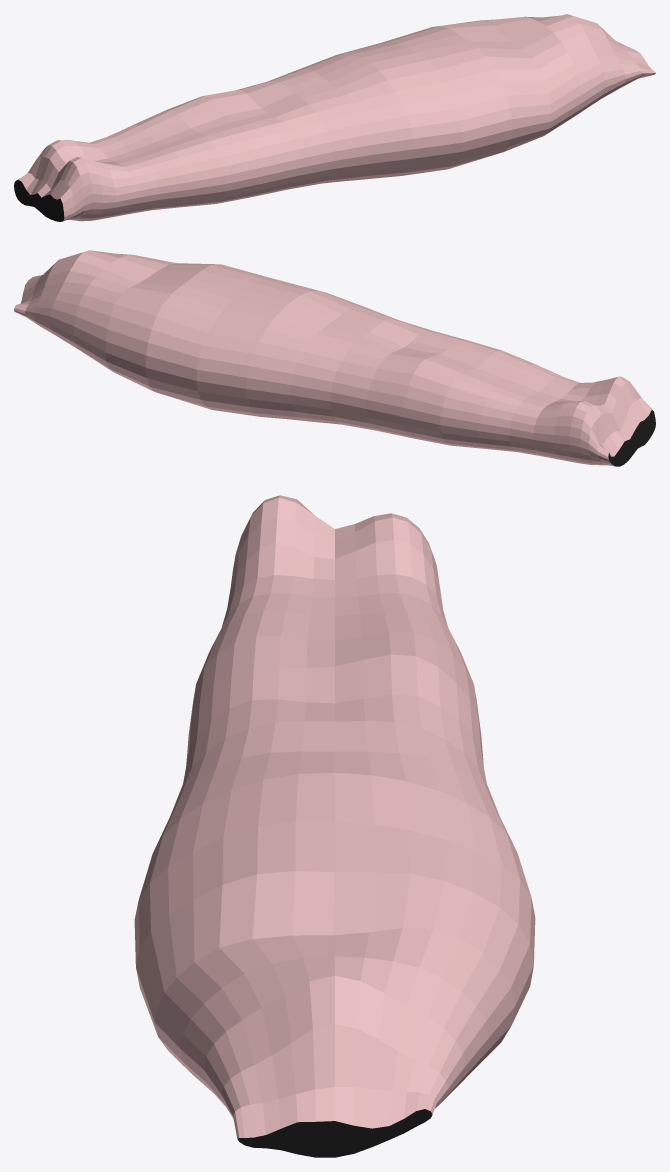
The model's file is pr_wrapped_corpse_mesh.fbx.
3 renders of one model, top to bottom at view 1: azimuth 30°, elevation 25°; view 2: azimuth 150°, elevation 25°; view 3: azimuth 270°, elevation 25°, orthographic. The views are drawn at different scales.
Parts seen in each view (by area): view 1: pr_wrapped_corpse_mesh; view 2: pr_wrapped_corpse_mesh; view 3: pr_wrapped_corpse_mesh.
Part boxes in pixels (box(x1,y1,x2,y2)): pr_wrapped_corpse_mesh: box(14, 14, 655, 221); pr_wrapped_corpse_mesh: box(14, 250, 655, 466); pr_wrapped_corpse_mesh: box(134, 495, 535, 1157).
Size of the model in its own units: 181 by 28.1 by 52.49.
